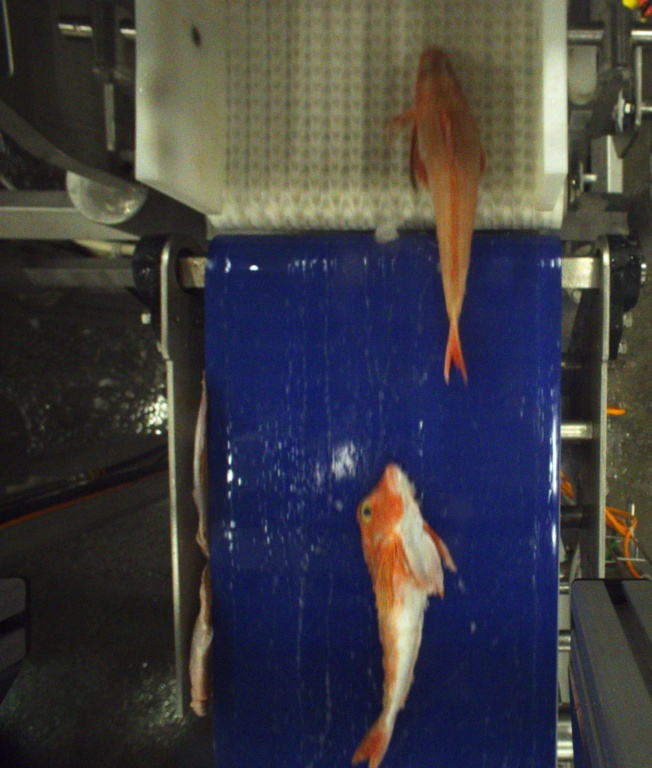GUU: (387, 44, 484, 388)
